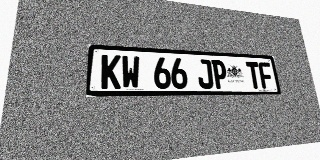6: (153, 57, 171, 89), (170, 58, 188, 89)
F: (258, 62, 274, 89)
J: (196, 59, 214, 89)
K: (101, 54, 121, 89)
P: (211, 60, 228, 89)
T: (245, 61, 262, 89)
W: (121, 55, 140, 89)
